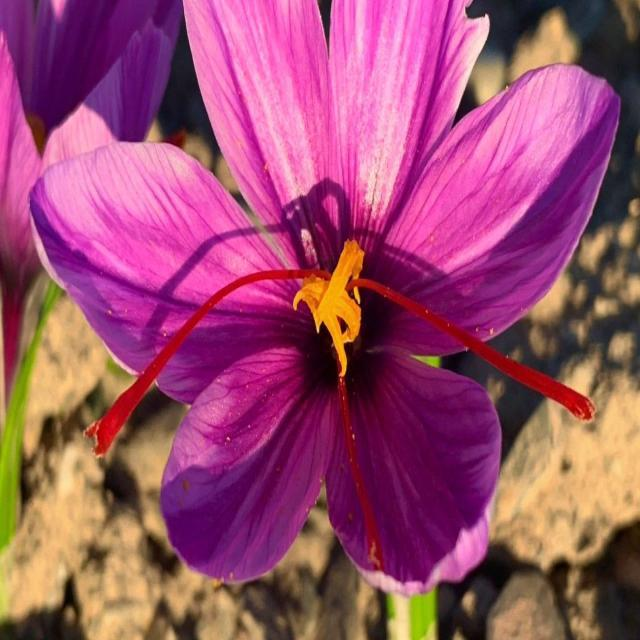Flower: (43, 0, 618, 580), (3, 0, 187, 512)
stigma: (74, 240, 309, 460), (361, 274, 595, 422), (334, 354, 378, 576)
